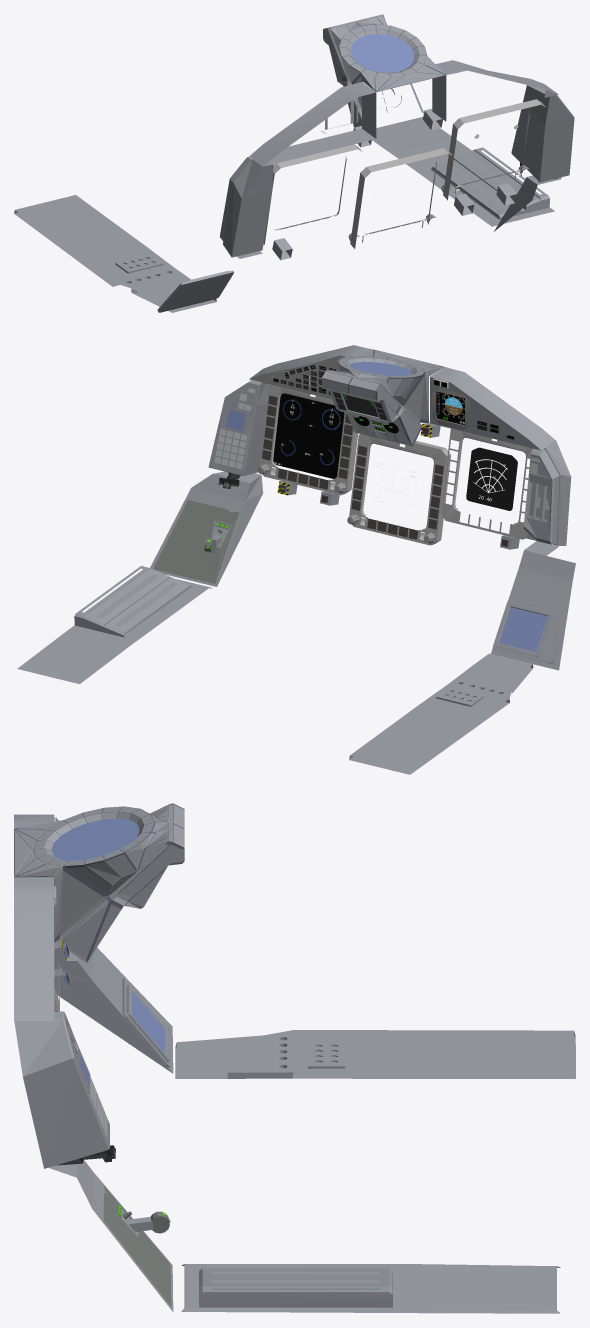
Rendered from interior.gltf.
The picture shows the model from 3 angles, top to bottom: view 1: azimuth 30°, elevation 25°; view 2: azimuth 150°, elevation 25°; view 3: azimuth 270°, elevation 25°; orthographic projection. The views are drawn at different scales.
Parts seen in each view (by area): view 1: Interior; view 2: Interior; view 3: Interior.
Boxes of the visible parts, box(x1,y1,x2,y2) form: Interior: box(14, 14, 574, 312); Interior: box(17, 345, 575, 774); Interior: box(14, 803, 575, 1313).
Size of the model in its own units: 0.9484 by 0.5436 by 0.7876.
60 materials, 51 textured.
